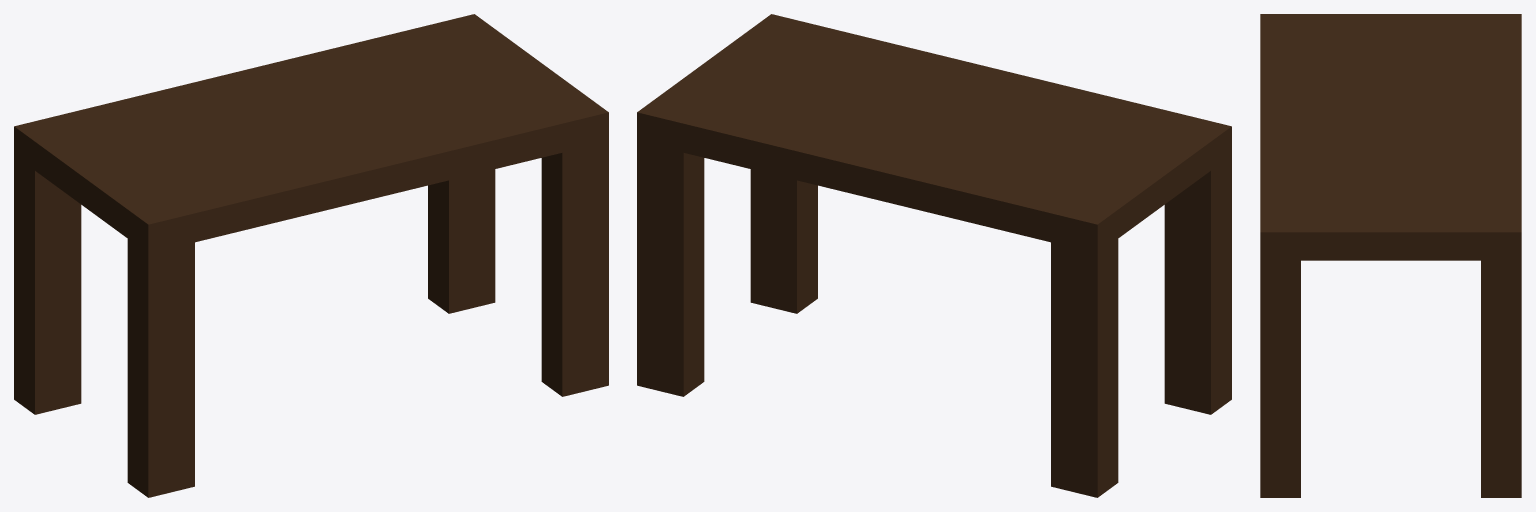
The model's file is woodTable_001.fbx.
The picture shows the model from 3 angles, left to right: view 1: azimuth 30°, elevation 25°; view 2: azimuth 150°, elevation 25°; view 3: azimuth 270°, elevation 25°; orthographic projection. The views are drawn at different scales.
Visible parts, largest first — view 1: woodTable_001; view 2: woodTable_001; view 3: woodTable_001.
Boxes of the visible parts, x1,y1,x2,y2 form: woodTable_001: (14, 14, 608, 497); woodTable_001: (637, 14, 1231, 497); woodTable_001: (1260, 14, 1521, 497).
Size of the model in its own units: 180 by 102 by 90.87.
